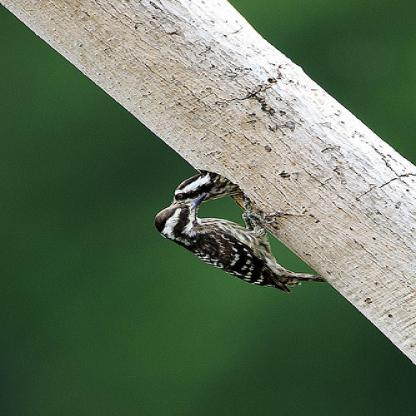bird: (150, 193, 325, 294), (170, 172, 241, 204)
